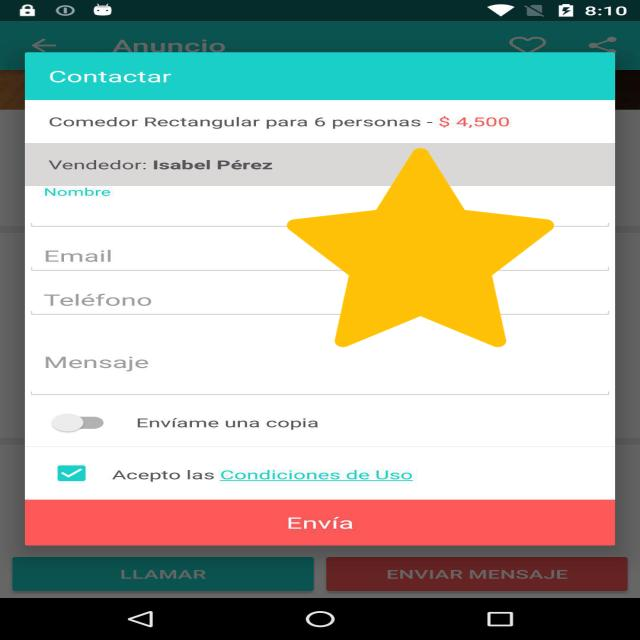forced continuity: (287, 148, 554, 347)
